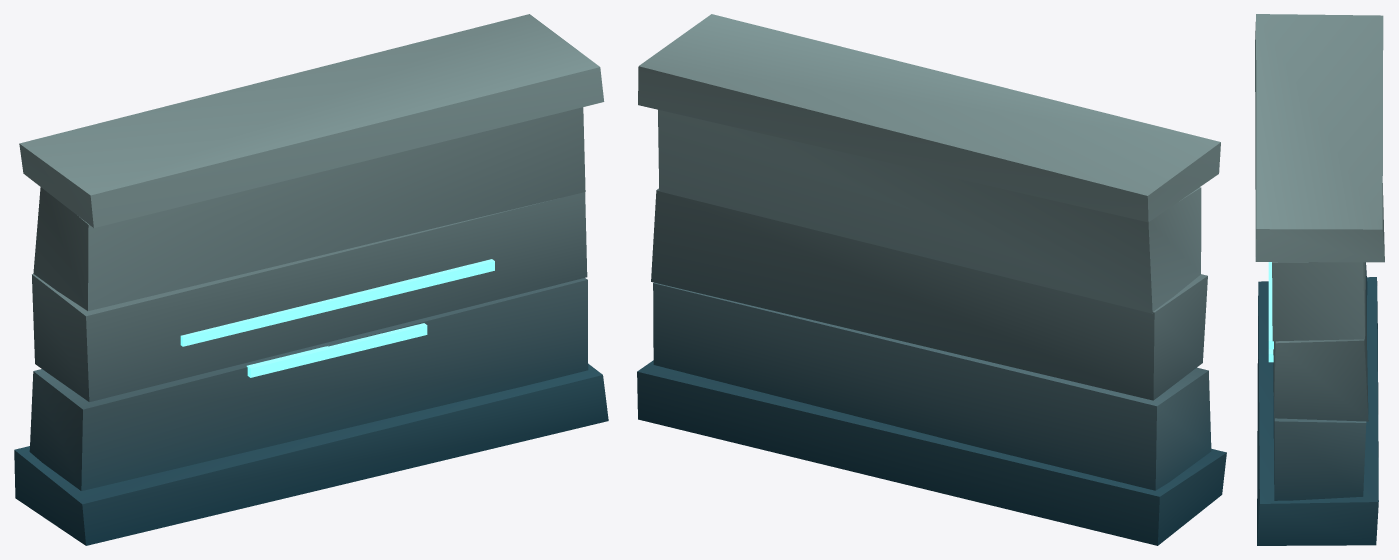
Rendered from ruin_wall_straight.glb.
The picture shows the model from 3 angles, left to right: view 1: azimuth 30°, elevation 25°; view 2: azimuth 150°, elevation 25°; view 3: azimuth 270°, elevation 25°; orthographic projection. The views are drawn at different scales.
Parts seen in each view (by area): view 1: ruin_wall_straight_stone, ruin_wall_straight_glow; view 2: ruin_wall_straight_stone; view 3: ruin_wall_straight_stone, ruin_wall_straight_glow.
Part boxes in pixels (x1,y1,x2,y2): ruin_wall_straight_stone: [14, 14, 608, 545]; ruin_wall_straight_glow: [180, 259, 494, 377]; ruin_wall_straight_stone: [637, 14, 1226, 545]; ruin_wall_straight_stone: [1255, 14, 1384, 545]; ruin_wall_straight_glow: [1268, 262, 1273, 362].
Bounding box in the file's own units: 4.05 × 2.63 × 0.9854.
